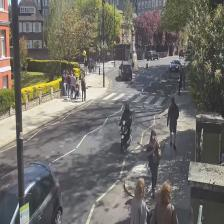person: (149, 181, 178, 224), (131, 178, 149, 224), (166, 96, 178, 150)
